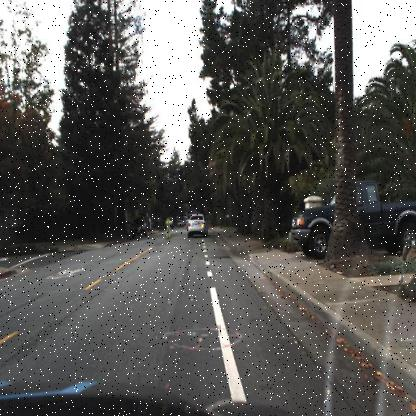car: (288, 176, 414, 265), (129, 210, 154, 242), (185, 211, 207, 239)
